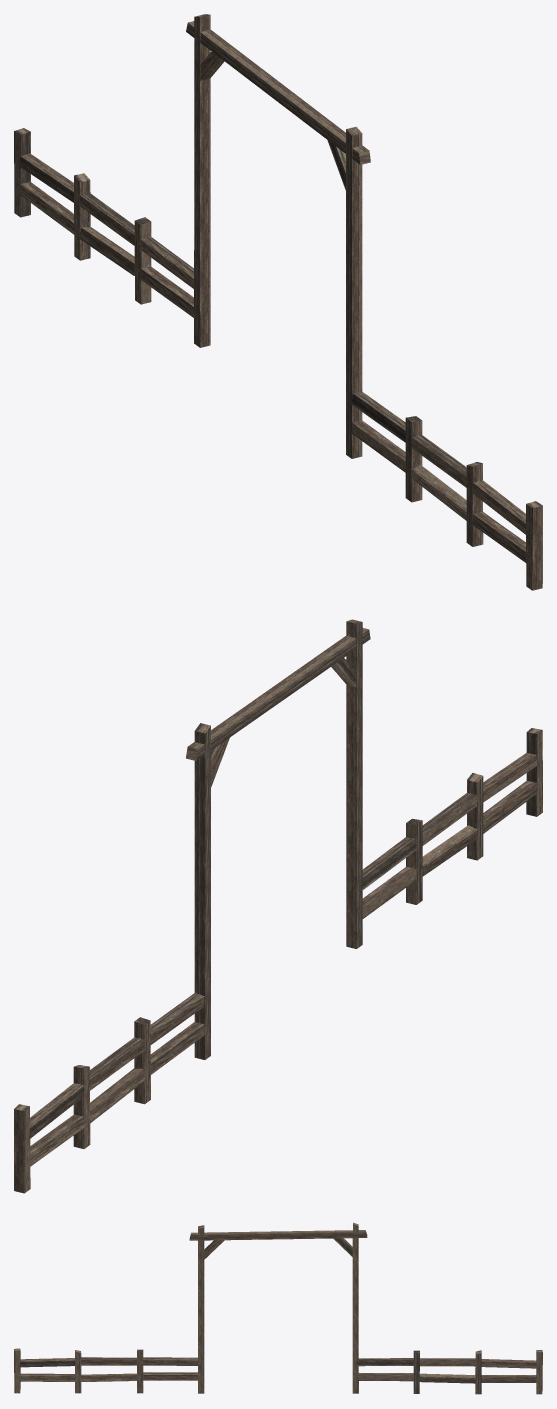
The model's file is p_fence.glb.
The picture shows the model from 3 angles, top to bottom: view 1: azimuth 30°, elevation 25°; view 2: azimuth 150°, elevation 25°; view 3: azimuth 270°, elevation 25°; orthographic projection. The views are drawn at different scales.
Parts seen in each view (by area): view 1: Object_2; view 2: Object_2; view 3: Object_2.
Boxes of the visible parts, x1,y1,x2,y2 form: Object_2: [14, 14, 542, 590]; Object_2: [14, 619, 542, 1193]; Object_2: [14, 1222, 542, 1394].
Bounding box in the file's own units: 0.2325 × 6.04 × 17.11.
Materials: 1 (1 with a texture image).
